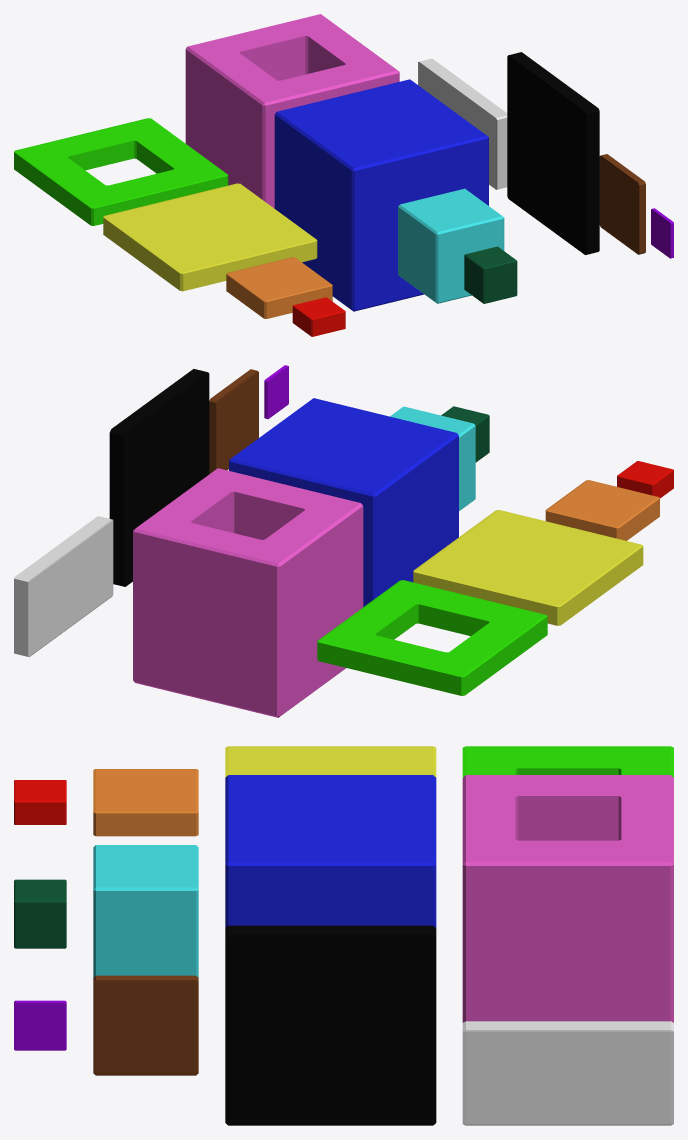
File: MapBuilderAssets.glb
3 views of the same model, one above another, from view 1: azimuth 30°, elevation 25°; view 2: azimuth 150°, elevation 25°; view 3: azimuth 270°, elevation 25° (orthographic). The views are drawn at different scales.
Parts seen in each view (by area): view 1: BlockL -col, BlockLS -col, WallL -col, PlatformL -col, PlatformLS -col, BlockM -col, PlatformM -col, WallLS -col, WallM -col, BlockS -col, PlatformS -col, WallS -col; view 2: BlockLS -col, BlockL -col, PlatformL -col, PlatformLS -col, WallL -col, WallLS -col, PlatformM -col, WallM -col, BlockM -col, PlatformS -col, WallS -col, BlockS -col; view 3: BlockLS -col, WallL -col, BlockL -col, WallLS -col, BlockM -col, WallM -col, PlatformM -col, PlatformL -col, PlatformLS -col, BlockS -col, WallS -col, PlatformS -col.
Part boxes in pixels (box(x1,y1,x2,y2)): BlockL -col: box(274, 79, 488, 311); BlockLS -col: box(185, 14, 399, 208); WallL -col: box(507, 52, 599, 254); PlatformL -col: box(103, 183, 317, 291); PlatformLS -col: box(14, 118, 228, 225); BlockM -col: box(398, 188, 504, 303); PlatformM -col: box(226, 257, 332, 318); WallLS -col: box(418, 58, 507, 189); WallM -col: box(599, 154, 645, 254); BlockS -col: box(464, 246, 517, 303); PlatformS -col: box(292, 297, 345, 336); WallS -col: box(651, 208, 673, 258); BlockLS -col: box(133, 468, 363, 717); BlockL -col: box(229, 398, 458, 606); PlatformL -col: box(413, 510, 643, 625); PlatformLS -col: box(317, 580, 547, 695); WallL -col: box(109, 369, 209, 586); WallLS -col: box(14, 516, 113, 656); PlatformM -col: box(545, 480, 659, 540); WallM -col: box(209, 369, 258, 473); BlockM -col: box(390, 406, 475, 510); PlatformS -col: box(617, 461, 673, 498); WallS -col: box(264, 365, 288, 419); BlockS -col: box(441, 406, 489, 462); BlockLS -col: box(462, 775, 673, 1022); WallL -col: box(225, 925, 436, 1125); BlockL -col: box(225, 775, 436, 927); WallLS -col: box(462, 1021, 673, 1125); BlockM -col: box(93, 845, 198, 977); WallM -col: box(93, 975, 198, 1075); PlatformM -col: box(93, 769, 198, 836); PlatformL -col: box(225, 746, 436, 777); PlatformLS -col: box(462, 746, 673, 777); BlockS -col: box(14, 879, 66, 948); WallS -col: box(14, 1000, 66, 1050); PlatformS -col: box(14, 780, 66, 824).
Bounding box in the file's own units: 48.8 × 16 × 50.
